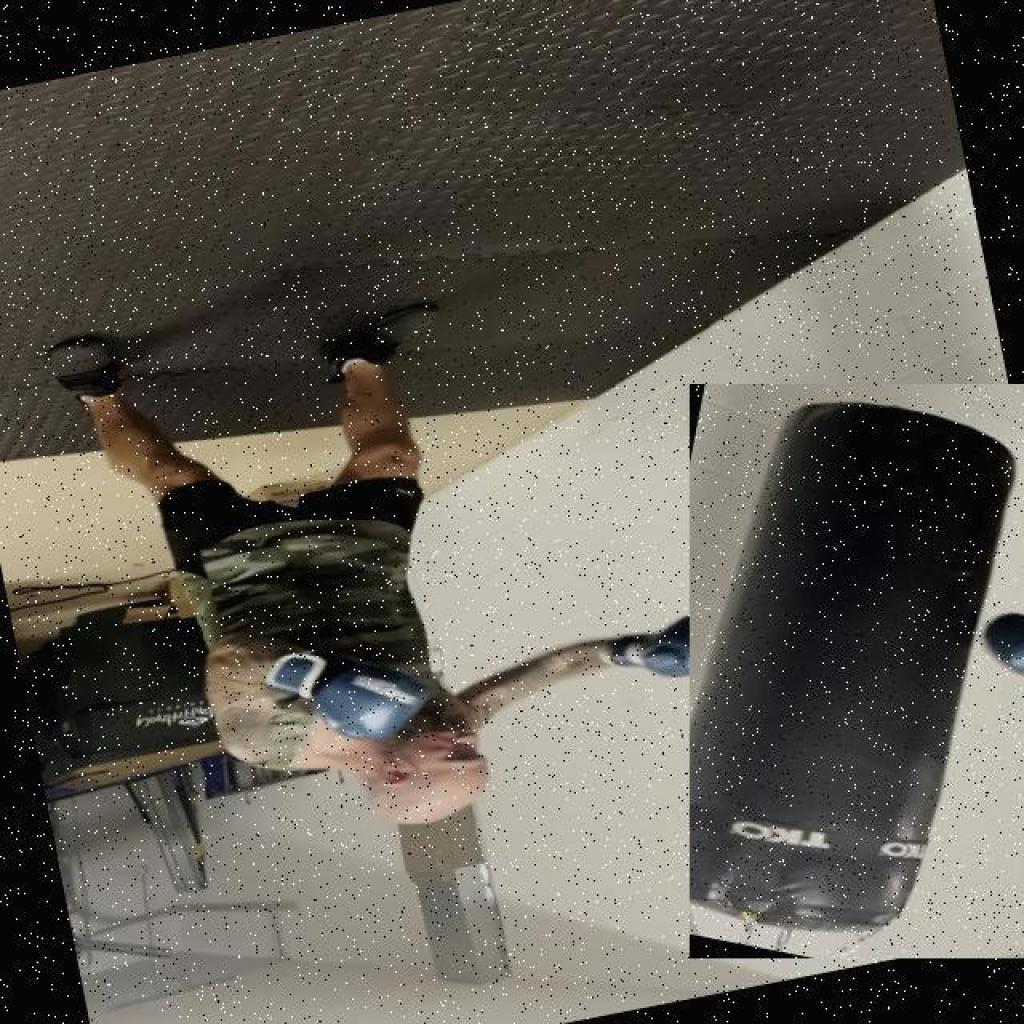bag: (689, 383, 1024, 958)
jab: (150, 488, 792, 894)
